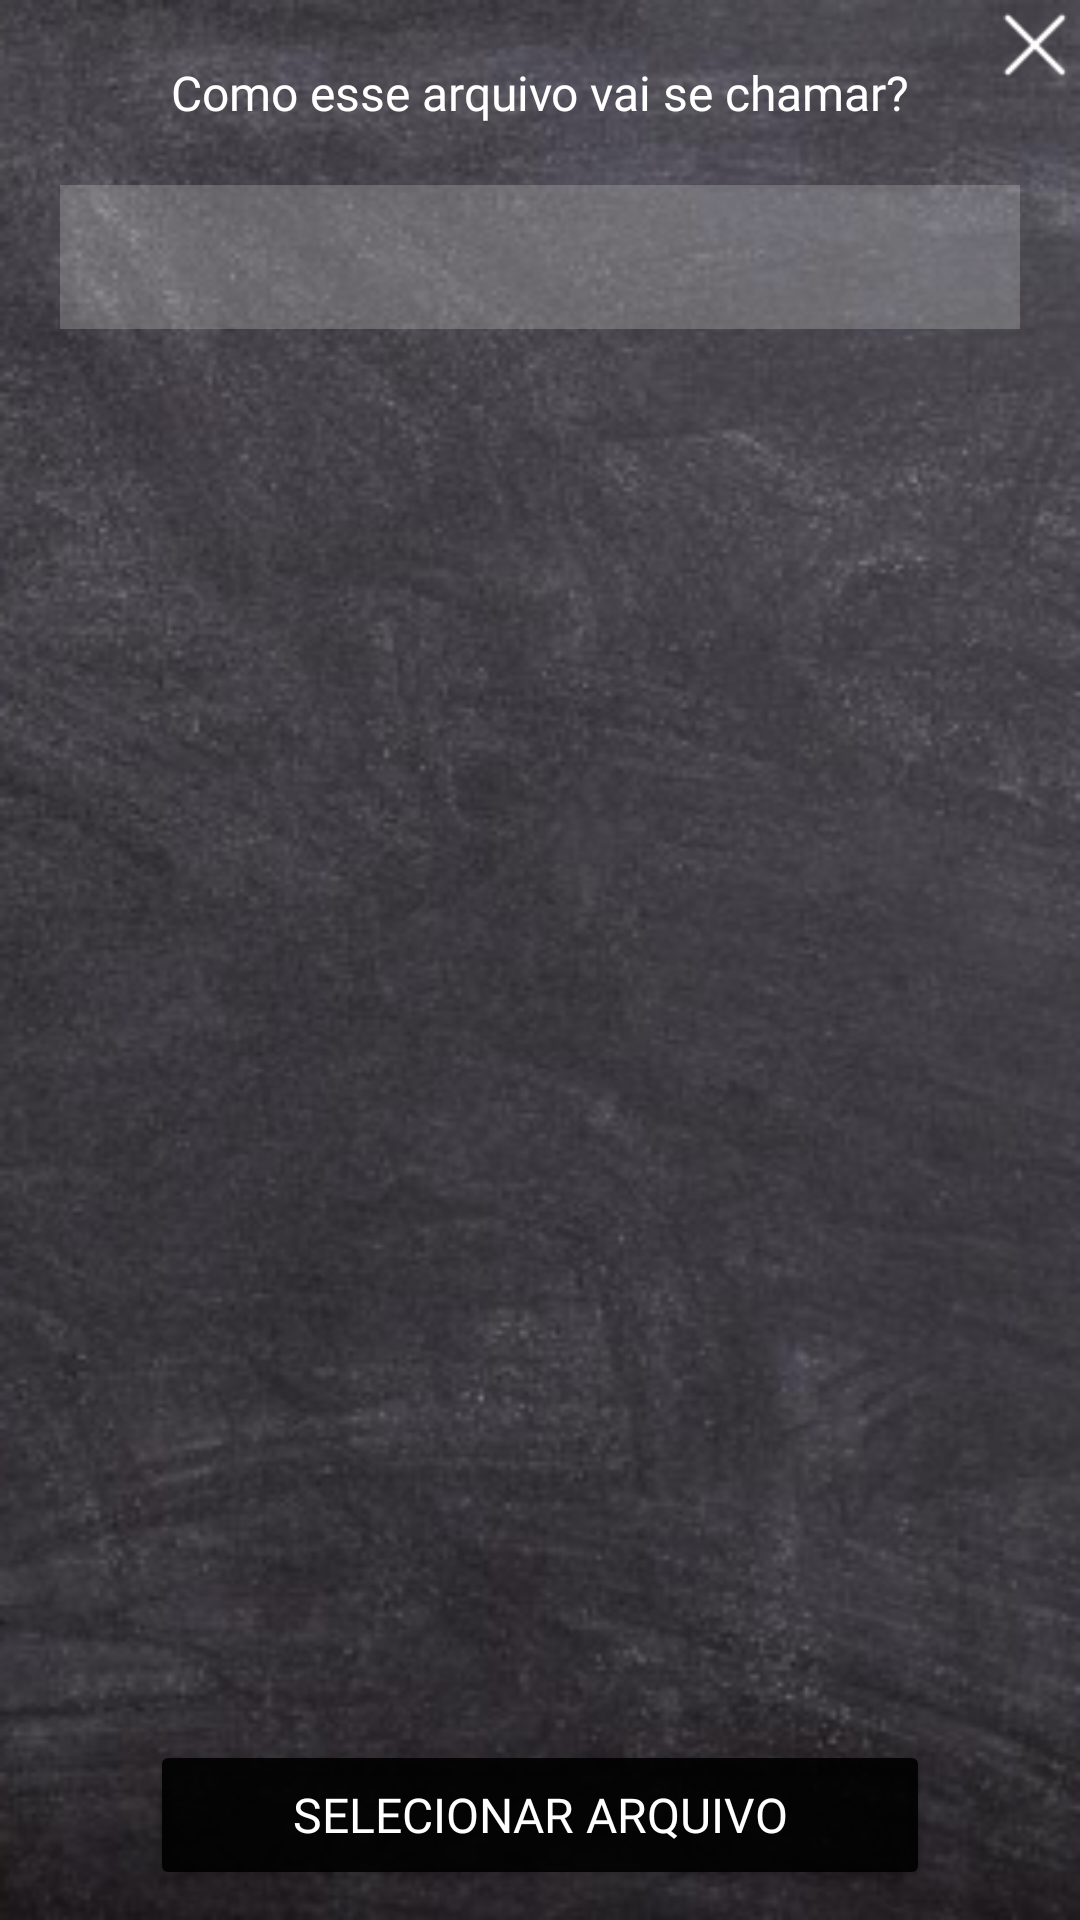

Screen size 1080x1920. Icon name, then its box in pixels as rect(x1, y1, x2, y2):
fechar: rect(1004, 14, 1067, 84)
